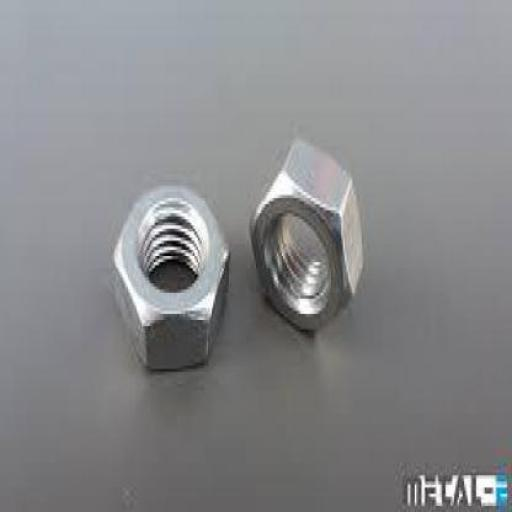nut: (250, 137, 364, 332), (112, 184, 230, 372)
